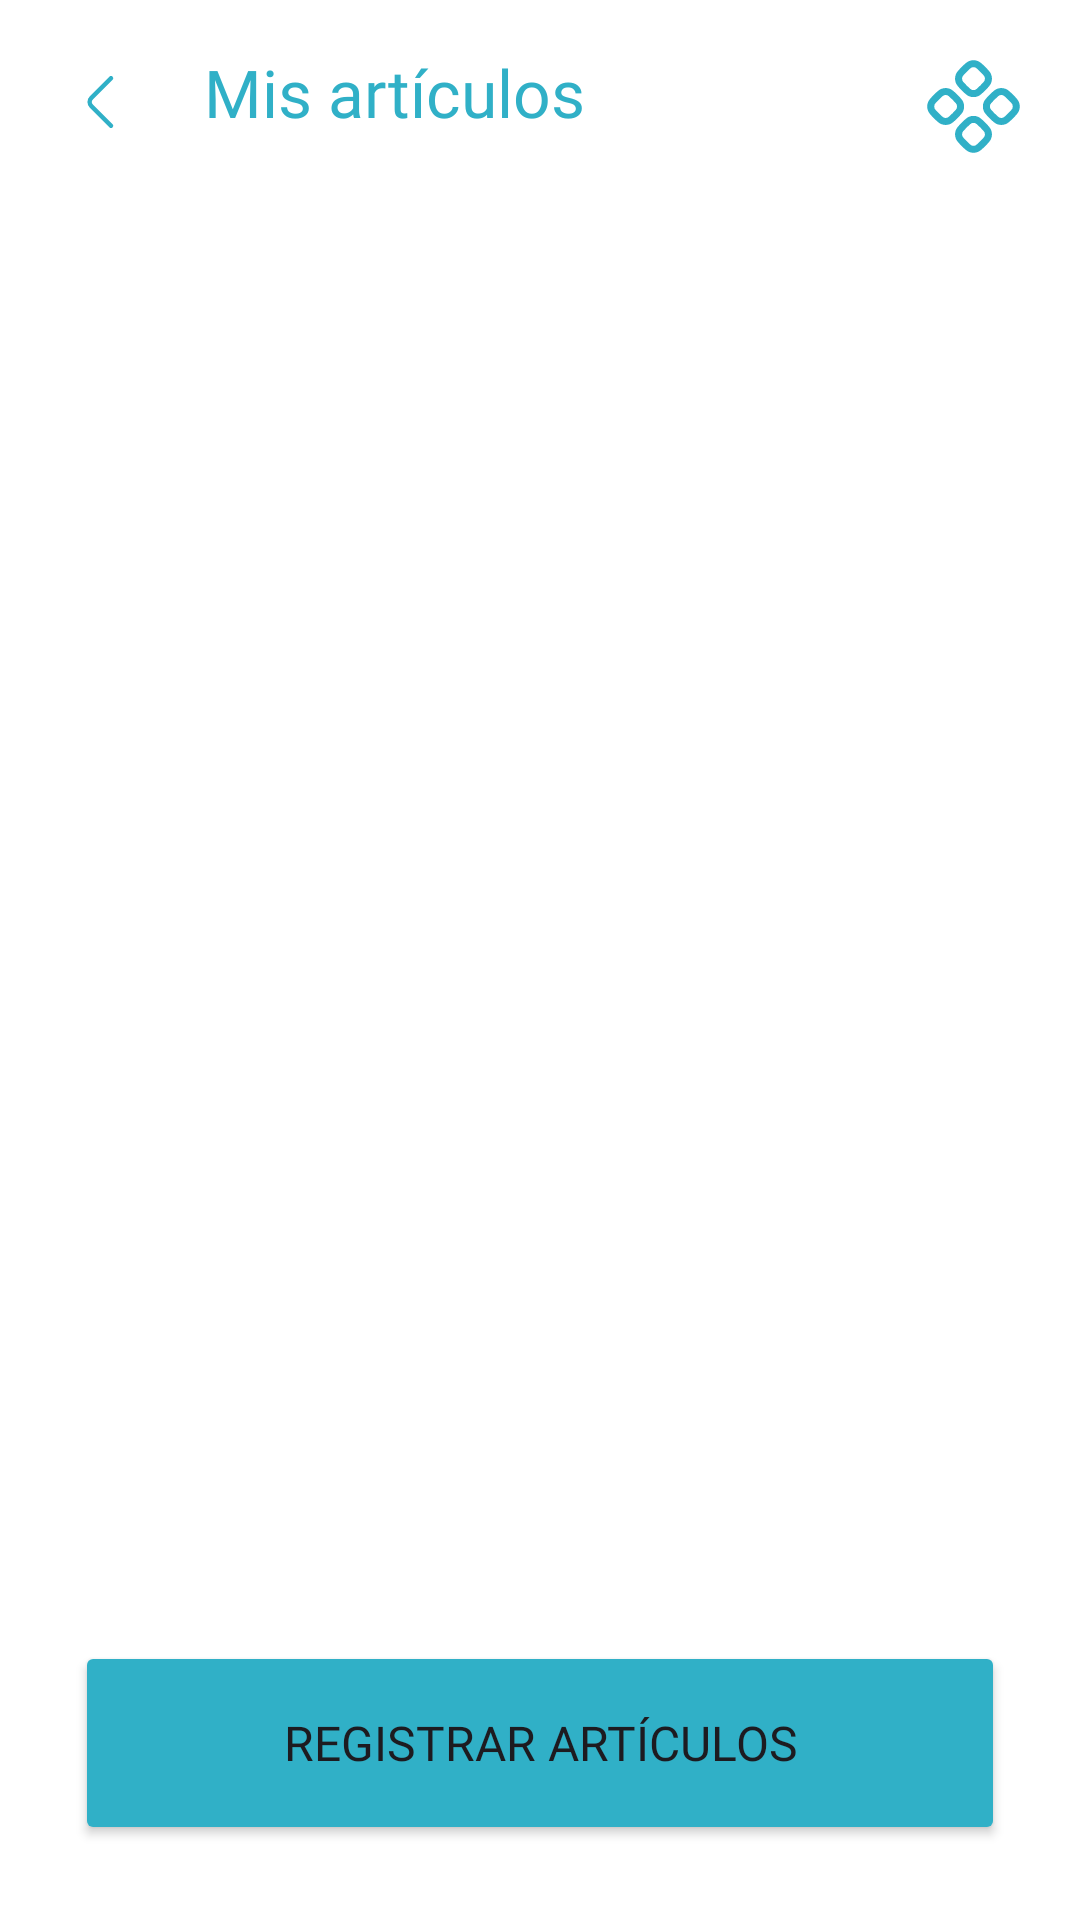

Locate icon controls on the screen. Image size 1080×1920, boxes as (x1, y1, x2, y2).
Botón para regresar: (87, 76, 114, 128)
